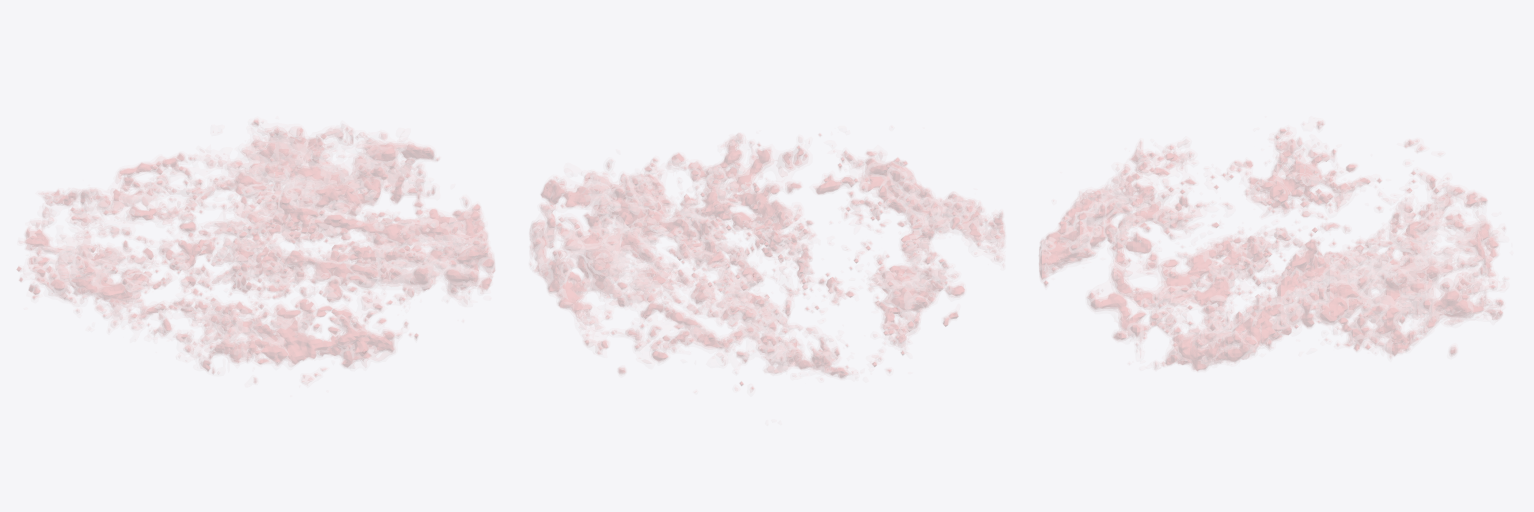
Rendered from edenhofer-isosurface.glb.
3 renders of one model, left to right at view 1: azimuth 30°, elevation 25°; view 2: azimuth 150°, elevation 25°; view 3: azimuth 270°, elevation 25°, orthographic.
Parts seen in each view (by area): view 1: Renderer Node; view 2: Renderer Node; view 3: Renderer Node.
Boxes of the visible parts, <box> form: Renderer Node: <box>17,120,494,382</box>; Renderer Node: <box>530,134,1004,389</box>; Renderer Node: <box>1039,121,1504,370</box>.
Bounding box in the file's own units: 0.000793 × 0.000793 × 0.000793.
